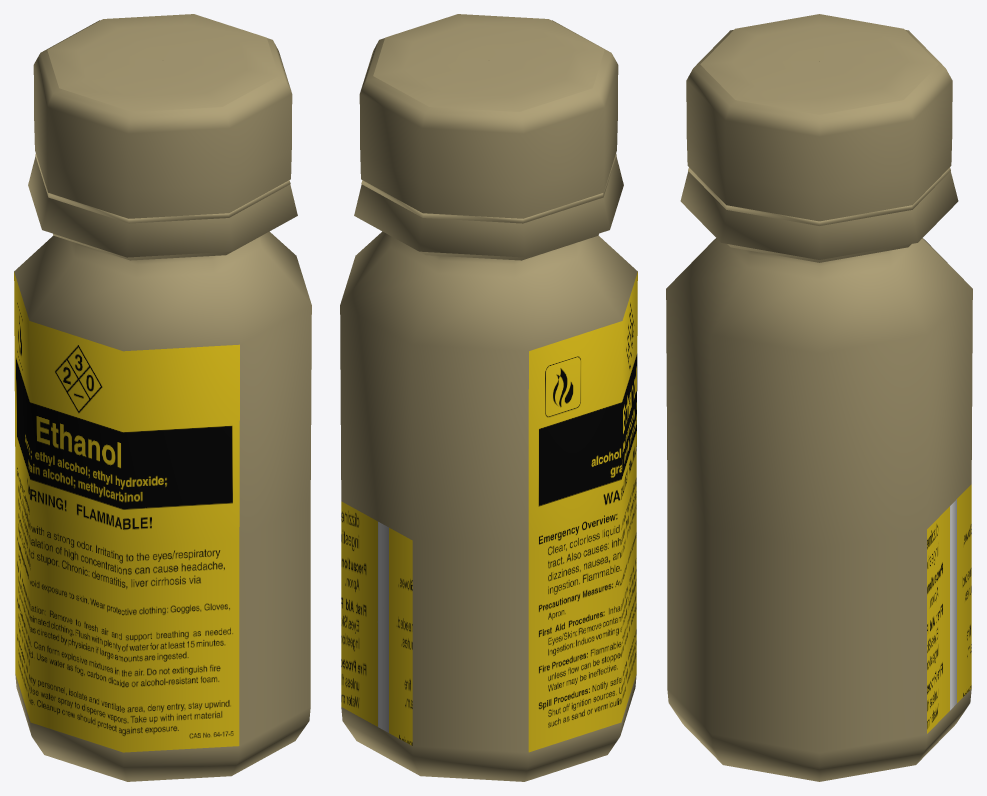
File: ethanol.fbx
The picture shows the model from 3 angles, left to right: view 1: azimuth 30°, elevation 25°; view 2: azimuth 150°, elevation 25°; view 3: azimuth 270°, elevation 25°; orthographic projection.
Parts seen in each view (by area): view 1: ethalnol; view 2: ethalnol; view 3: ethalnol.
Part boxes in pixels (box(x1,y1,x2,y2)): ethalnol: box(14, 14, 311, 781); ethalnol: box(340, 14, 637, 781); ethalnol: box(666, 14, 972, 781).
Size of the model in its own units: 8.56 by 20.65 by 8.56.
2 materials, 1 textured.
